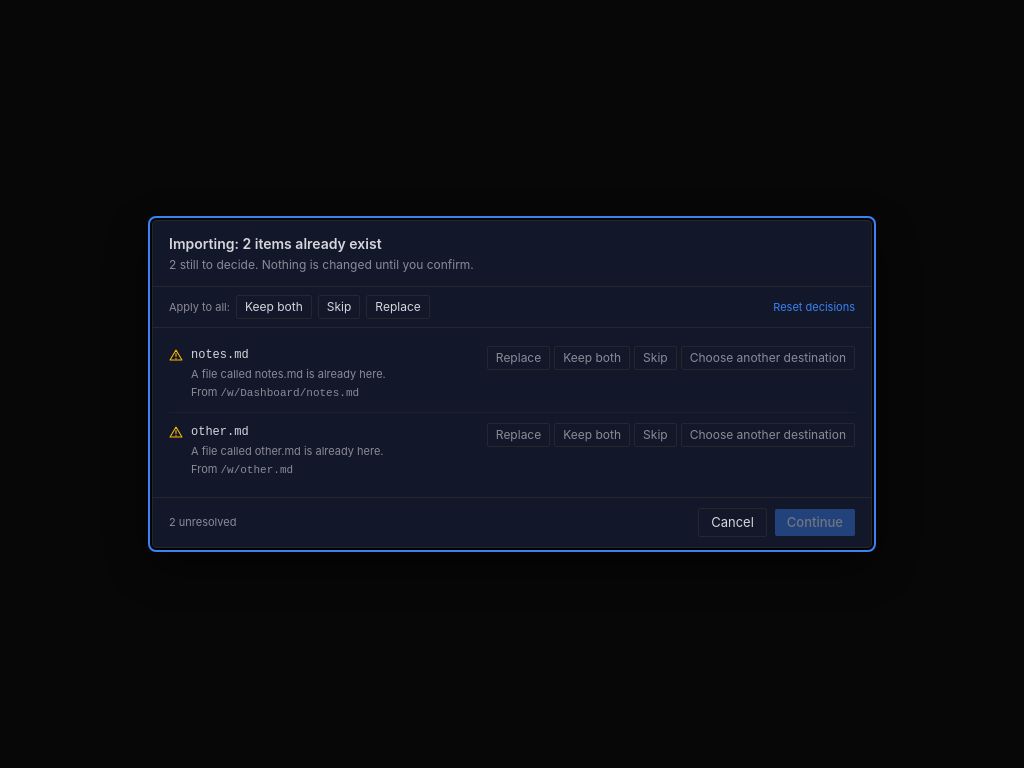
Scenario: offering the choice › opens the picker for the conflict it was pressed on
Step 1. Click the button with aria-label "Choose another destination for notes.md" → click(768, 358), box [681,346,855,370]
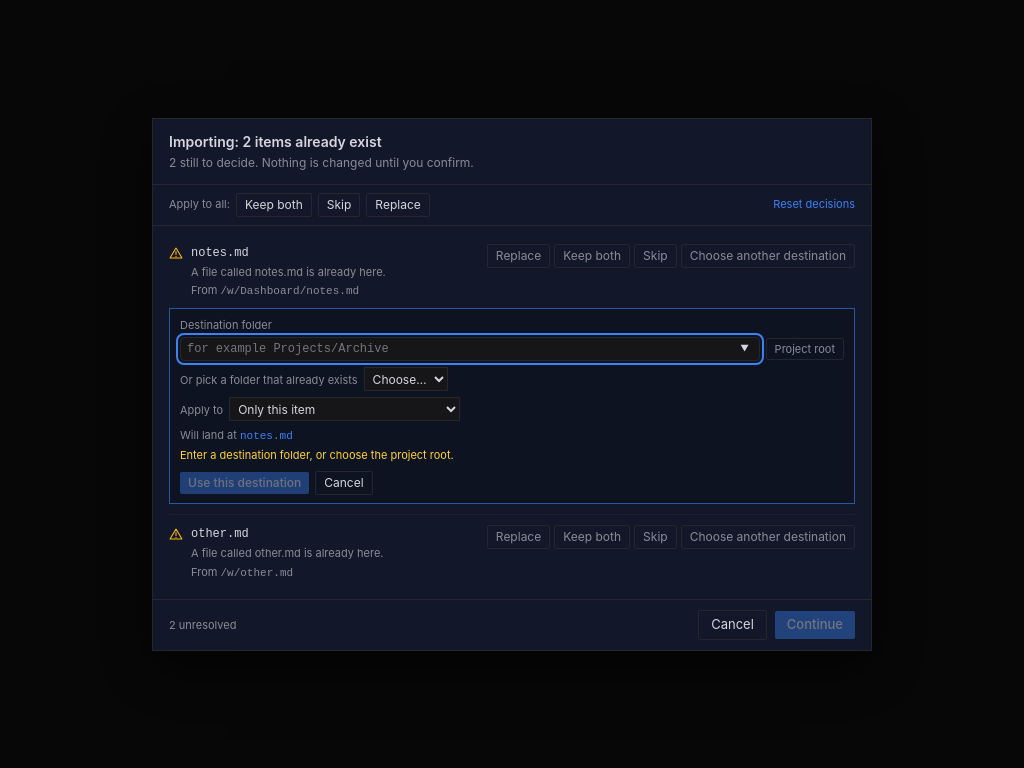
Check: the element named "Choose another destination for notes.md" is shown, box [169,308,855,504]
